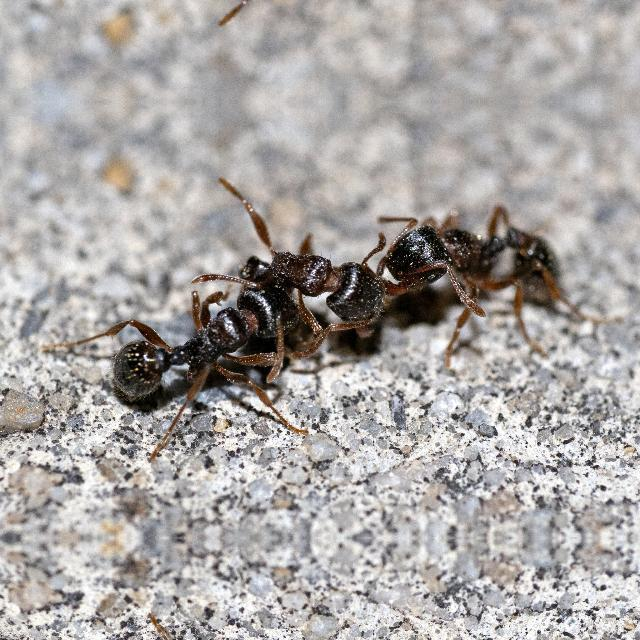Tetramorium: (74, 266, 304, 428), (360, 170, 590, 330), (222, 210, 394, 360), (360, 0, 590, 32)
